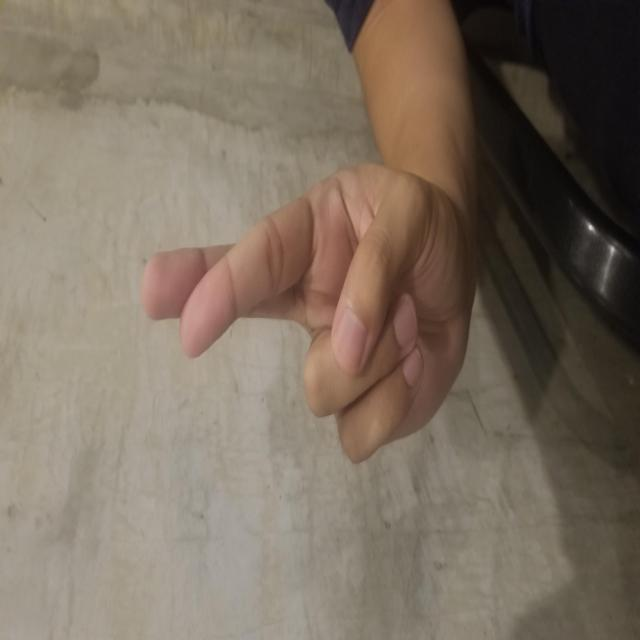R: (173, 141, 483, 473)
